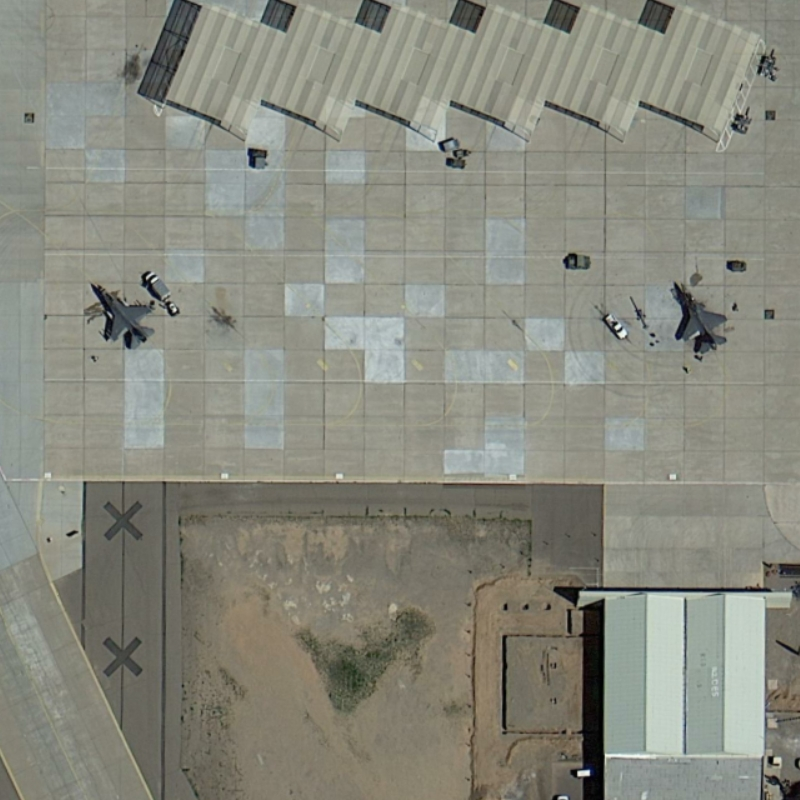A5: (92, 278, 159, 354), (674, 278, 733, 359)
